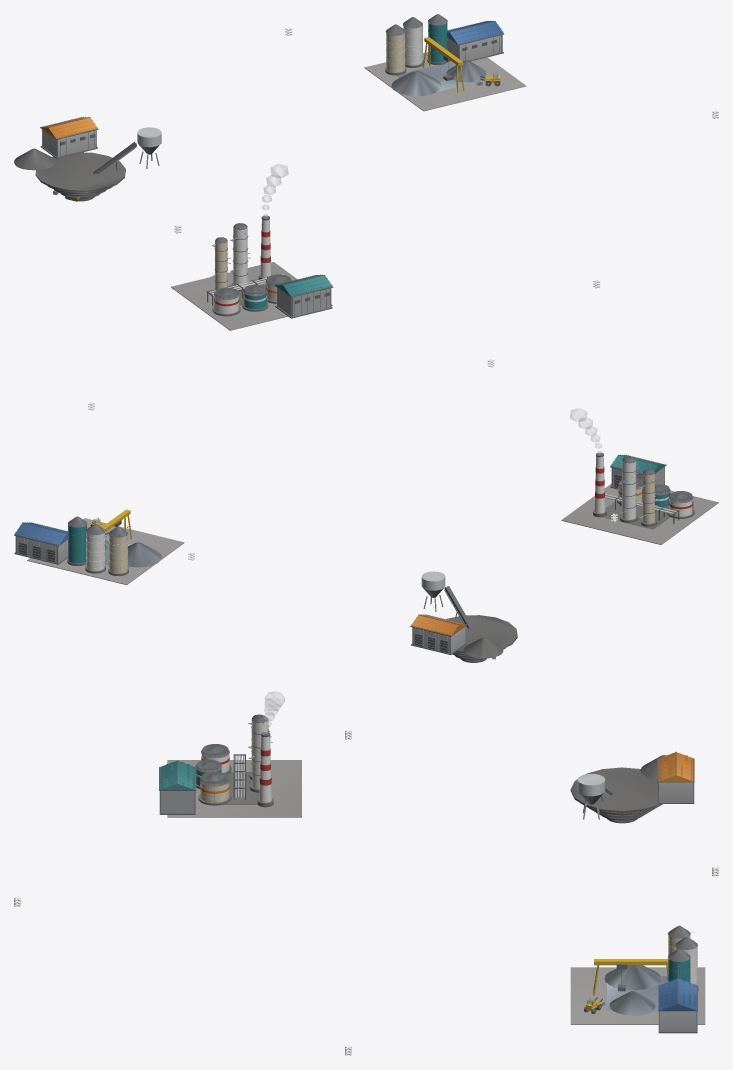
The model's file is Sites_P3.fbx.
3 views of the same model, one above another, from view 1: azimuth 30°, elevation 25°; view 2: azimuth 150°, elevation 25°; view 3: azimuth 270°, elevation 25° (orthographic). The views are drawn at different scales.
Parts seen in each view (by area): view 1: Site.Store.Yard, Site.Quarry.Benches, Site.Plant.Pad, Site.Plant.Hall, Site.Store.Shed, Site.Quarry.Shed, Site.Plant.Col1, Site.Store.Silo0, Site.Store.Pile0, Site.Store.Silo1, Site.Store.Silo2, Site.Plant.Tank0 (+8 smaller); view 2: Site.Plant.Pad, Site.Store.Yard, Site.Store.Shed, Site.Quarry.Shed, Site.Quarry.Benches, Site.Plant.Col1, Site.Store.Silo1, Site.Store.Silo0, Site.Store.Silo2, Site.Plant.Hall, Site.Plant.Col0, Site.Store.Pile0 (+5 smaller); view 3: Site.Plant.Pad, Site.Store.Yard, Site.Quarry.Benches, Site.Store.Shed, Site.Plant.Hall, Site.Quarry.Shed, Site.Store.Pile0, Site.Plant.Tank2, Site.Plant.Stack, Site.Plant.Col1, Site.Store.Pile1, Site.Quarry.Hopper (+2 smaller).
Part boxes in pixels (x1=…): Site.Store.Yard: x1=364, y1=52, x2=526, y2=111; Site.Quarry.Benches: x1=35, y1=152, x2=125, y2=201; Site.Plant.Pad: x1=171, y1=262, x2=332, y2=330; Site.Plant.Hall: x1=275, y1=274, x2=333, y2=318; Site.Store.Shed: x1=447, y1=20, x2=503, y2=61; Site.Quarry.Shed: x1=40, y1=116, x2=98, y2=158; Site.Plant.Col1: x1=230, y1=223, x2=250, y2=291; Site.Store.Silo0: x1=385, y1=24, x2=406, y2=75; Site.Store.Pile0: x1=391, y1=70, x2=441, y2=96; Site.Store.Silo1: x1=403, y1=17, x2=423, y2=67; Site.Store.Silo2: x1=427, y1=14, x2=447, y2=64; Site.Plant.Tank0: x1=212, y1=287, x2=240, y2=316; Site.Plant.Pad: x1=561, y1=483, x2=718, y2=544; Site.Store.Yard: x1=27, y1=518, x2=184, y2=584; Site.Store.Shed: x1=14, y1=522, x2=68, y2=564; Site.Quarry.Shed: x1=410, y1=614, x2=466, y2=654; Site.Quarry.Benches: x1=446, y1=615, x2=517, y2=662; Site.Plant.Col1: x1=618, y1=456, x2=639, y2=522; Site.Store.Silo1: x1=85, y1=524, x2=105, y2=573; Site.Store.Silo0: x1=108, y1=526, x2=128, y2=575; Site.Store.Silo2: x1=67, y1=516, x2=87, y2=566; Site.Plant.Hall: x1=610, y1=454, x2=666, y2=489; Site.Plant.Col0: x1=639, y1=469, x2=657, y2=526; Site.Store.Pile0: x1=128, y1=542, x2=161, y2=567; Site.Plant.Pad: x1=167, y1=760, x2=301, y2=817; Site.Store.Yard: x1=570, y1=967, x2=705, y2=1024; Site.Quarry.Benches: x1=570, y1=767, x2=662, y2=823; Site.Store.Shed: x1=658, y1=978, x2=697, y2=1033; Site.Plant.Hall: x1=159, y1=760, x2=196, y2=814; Site.Quarry.Shed: x1=657, y1=751, x2=694, y2=803; Site.Store.Pile0: x1=604, y1=965, x2=660, y2=990; Site.Plant.Tank2: x1=198, y1=772, x2=231, y2=805; Site.Plant.Stack: x1=257, y1=731, x2=273, y2=807; Site.Plant.Col1: x1=248, y1=715, x2=272, y2=792; Site.Store.Pile1: x1=609, y1=991, x2=655, y2=1015; Site.Quarry.Hopper: x1=577, y1=774, x2=605, y2=819.
Size of the model in its own units: 28734 by 6413 by 27269.
